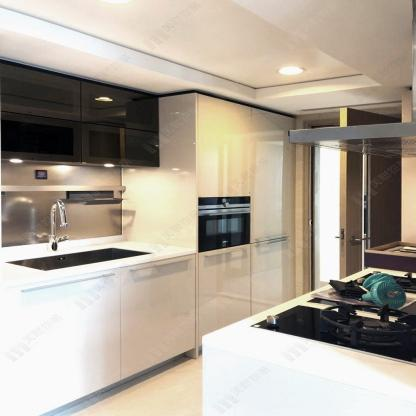Cupboard: (0, 236, 288, 414), (2, 56, 164, 168)
Exhaust Hood: (287, 121, 415, 160)
Oven: (197, 195, 251, 251)
Sink: (5, 247, 153, 271)
Stove: (251, 270, 415, 364)
